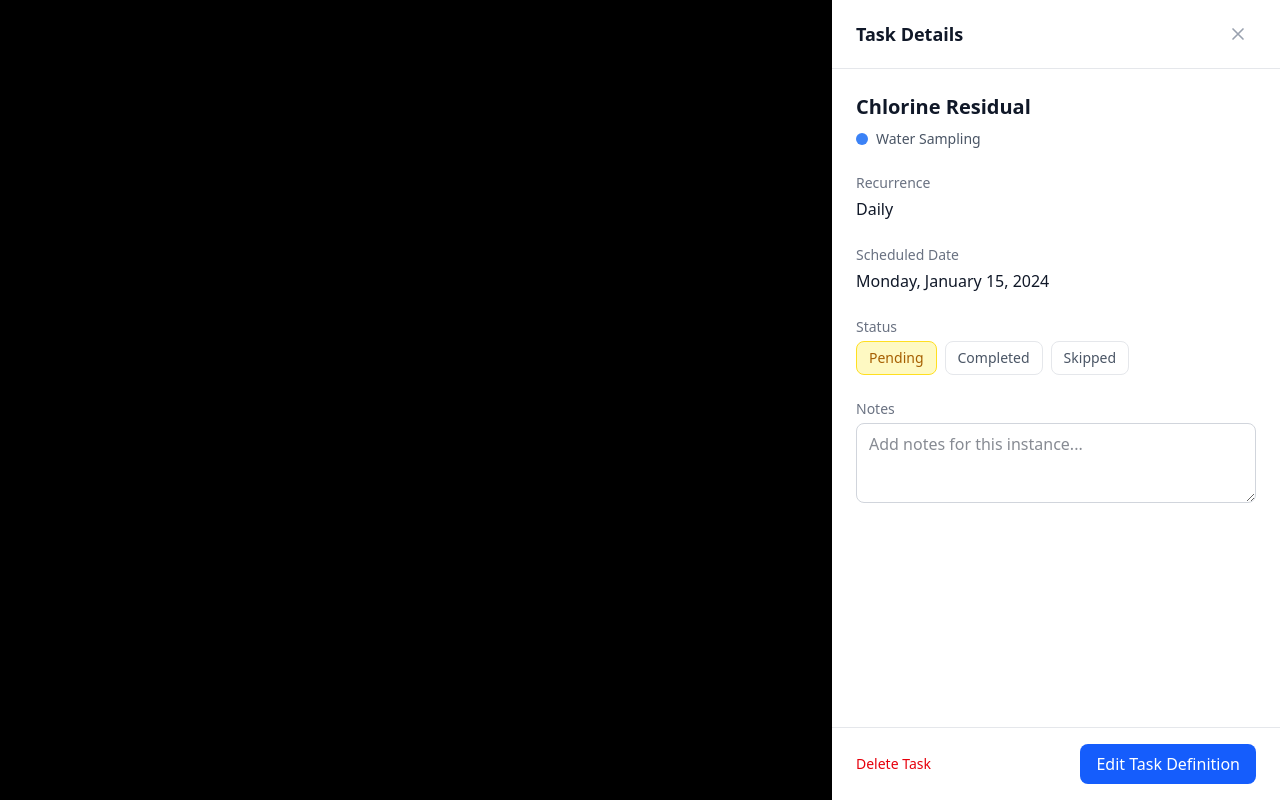
Test: TaskDetailPanel › switches to edit mode when edit button is clicked
Click the button "Edit Task Definition" at [1168, 764], box [1080,744,1256,784]
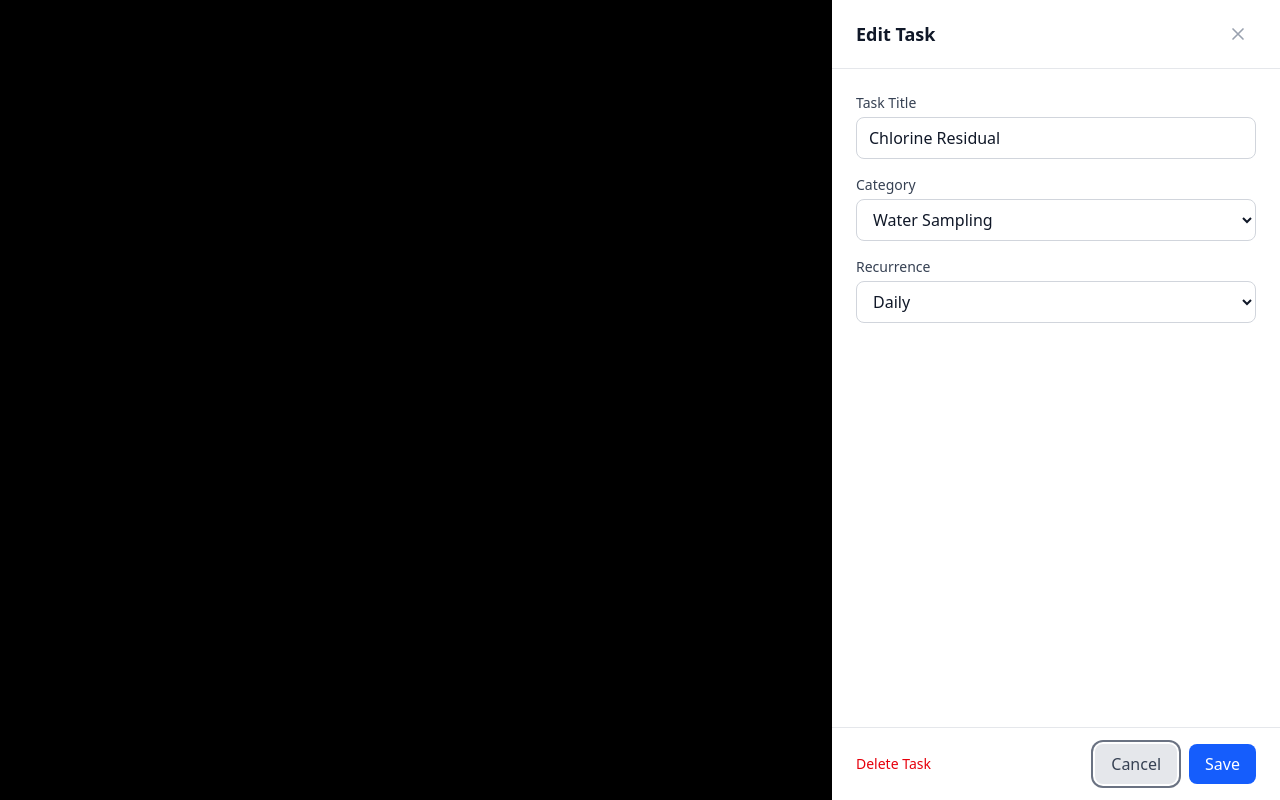
Result: the heading "Edit Task" is shown at [856,20,935,48]
Result: the field with placeholder "Enter task title" is shown at [856,117,1256,159]
